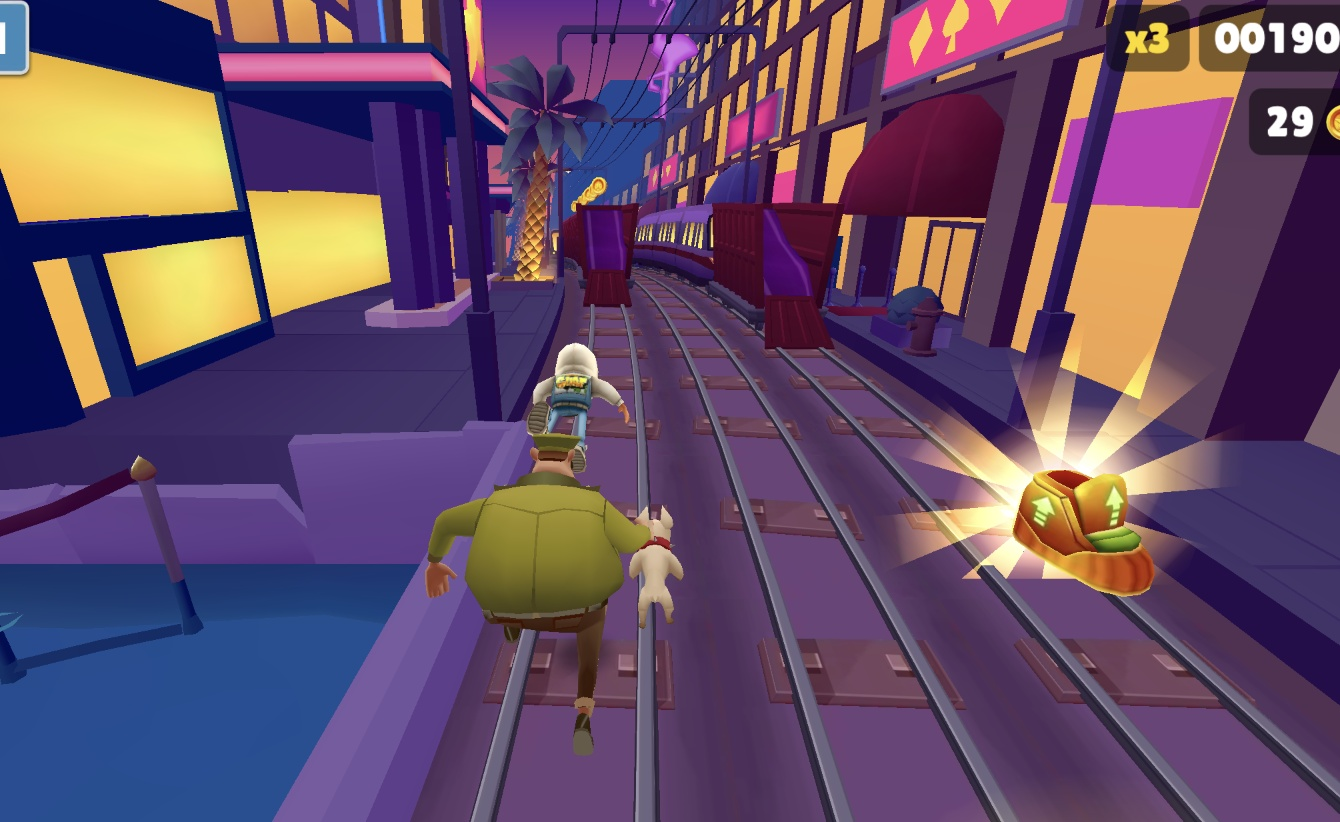train: (711, 205, 837, 354), (563, 202, 638, 311), (631, 201, 717, 280)
